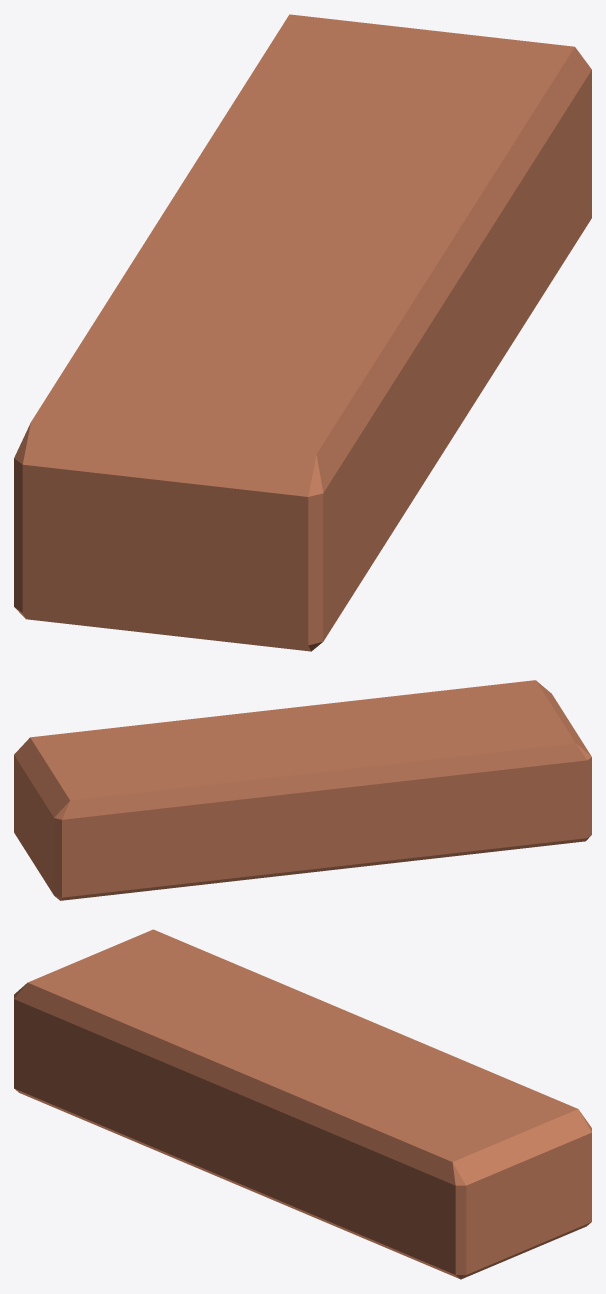
Rendered from brique.fbx.
The picture shows the model from 3 angles, top to bottom: view 1: azimuth 30°, elevation 25°; view 2: azimuth 150°, elevation 25°; view 3: azimuth 270°, elevation 25°; orthographic projection. The views are drawn at different scales.
Parts seen in each view (by area): view 1: polySurface970; view 2: polySurface970; view 3: polySurface970.
Boxes of the visible parts, x1,y1,x2,y2 form: polySurface970: (14, 14, 591, 651); polySurface970: (14, 680, 591, 900); polySurface970: (14, 929, 591, 1279).
Size of the model in its own units: 2.86 by 0.6225 by 2.86.
